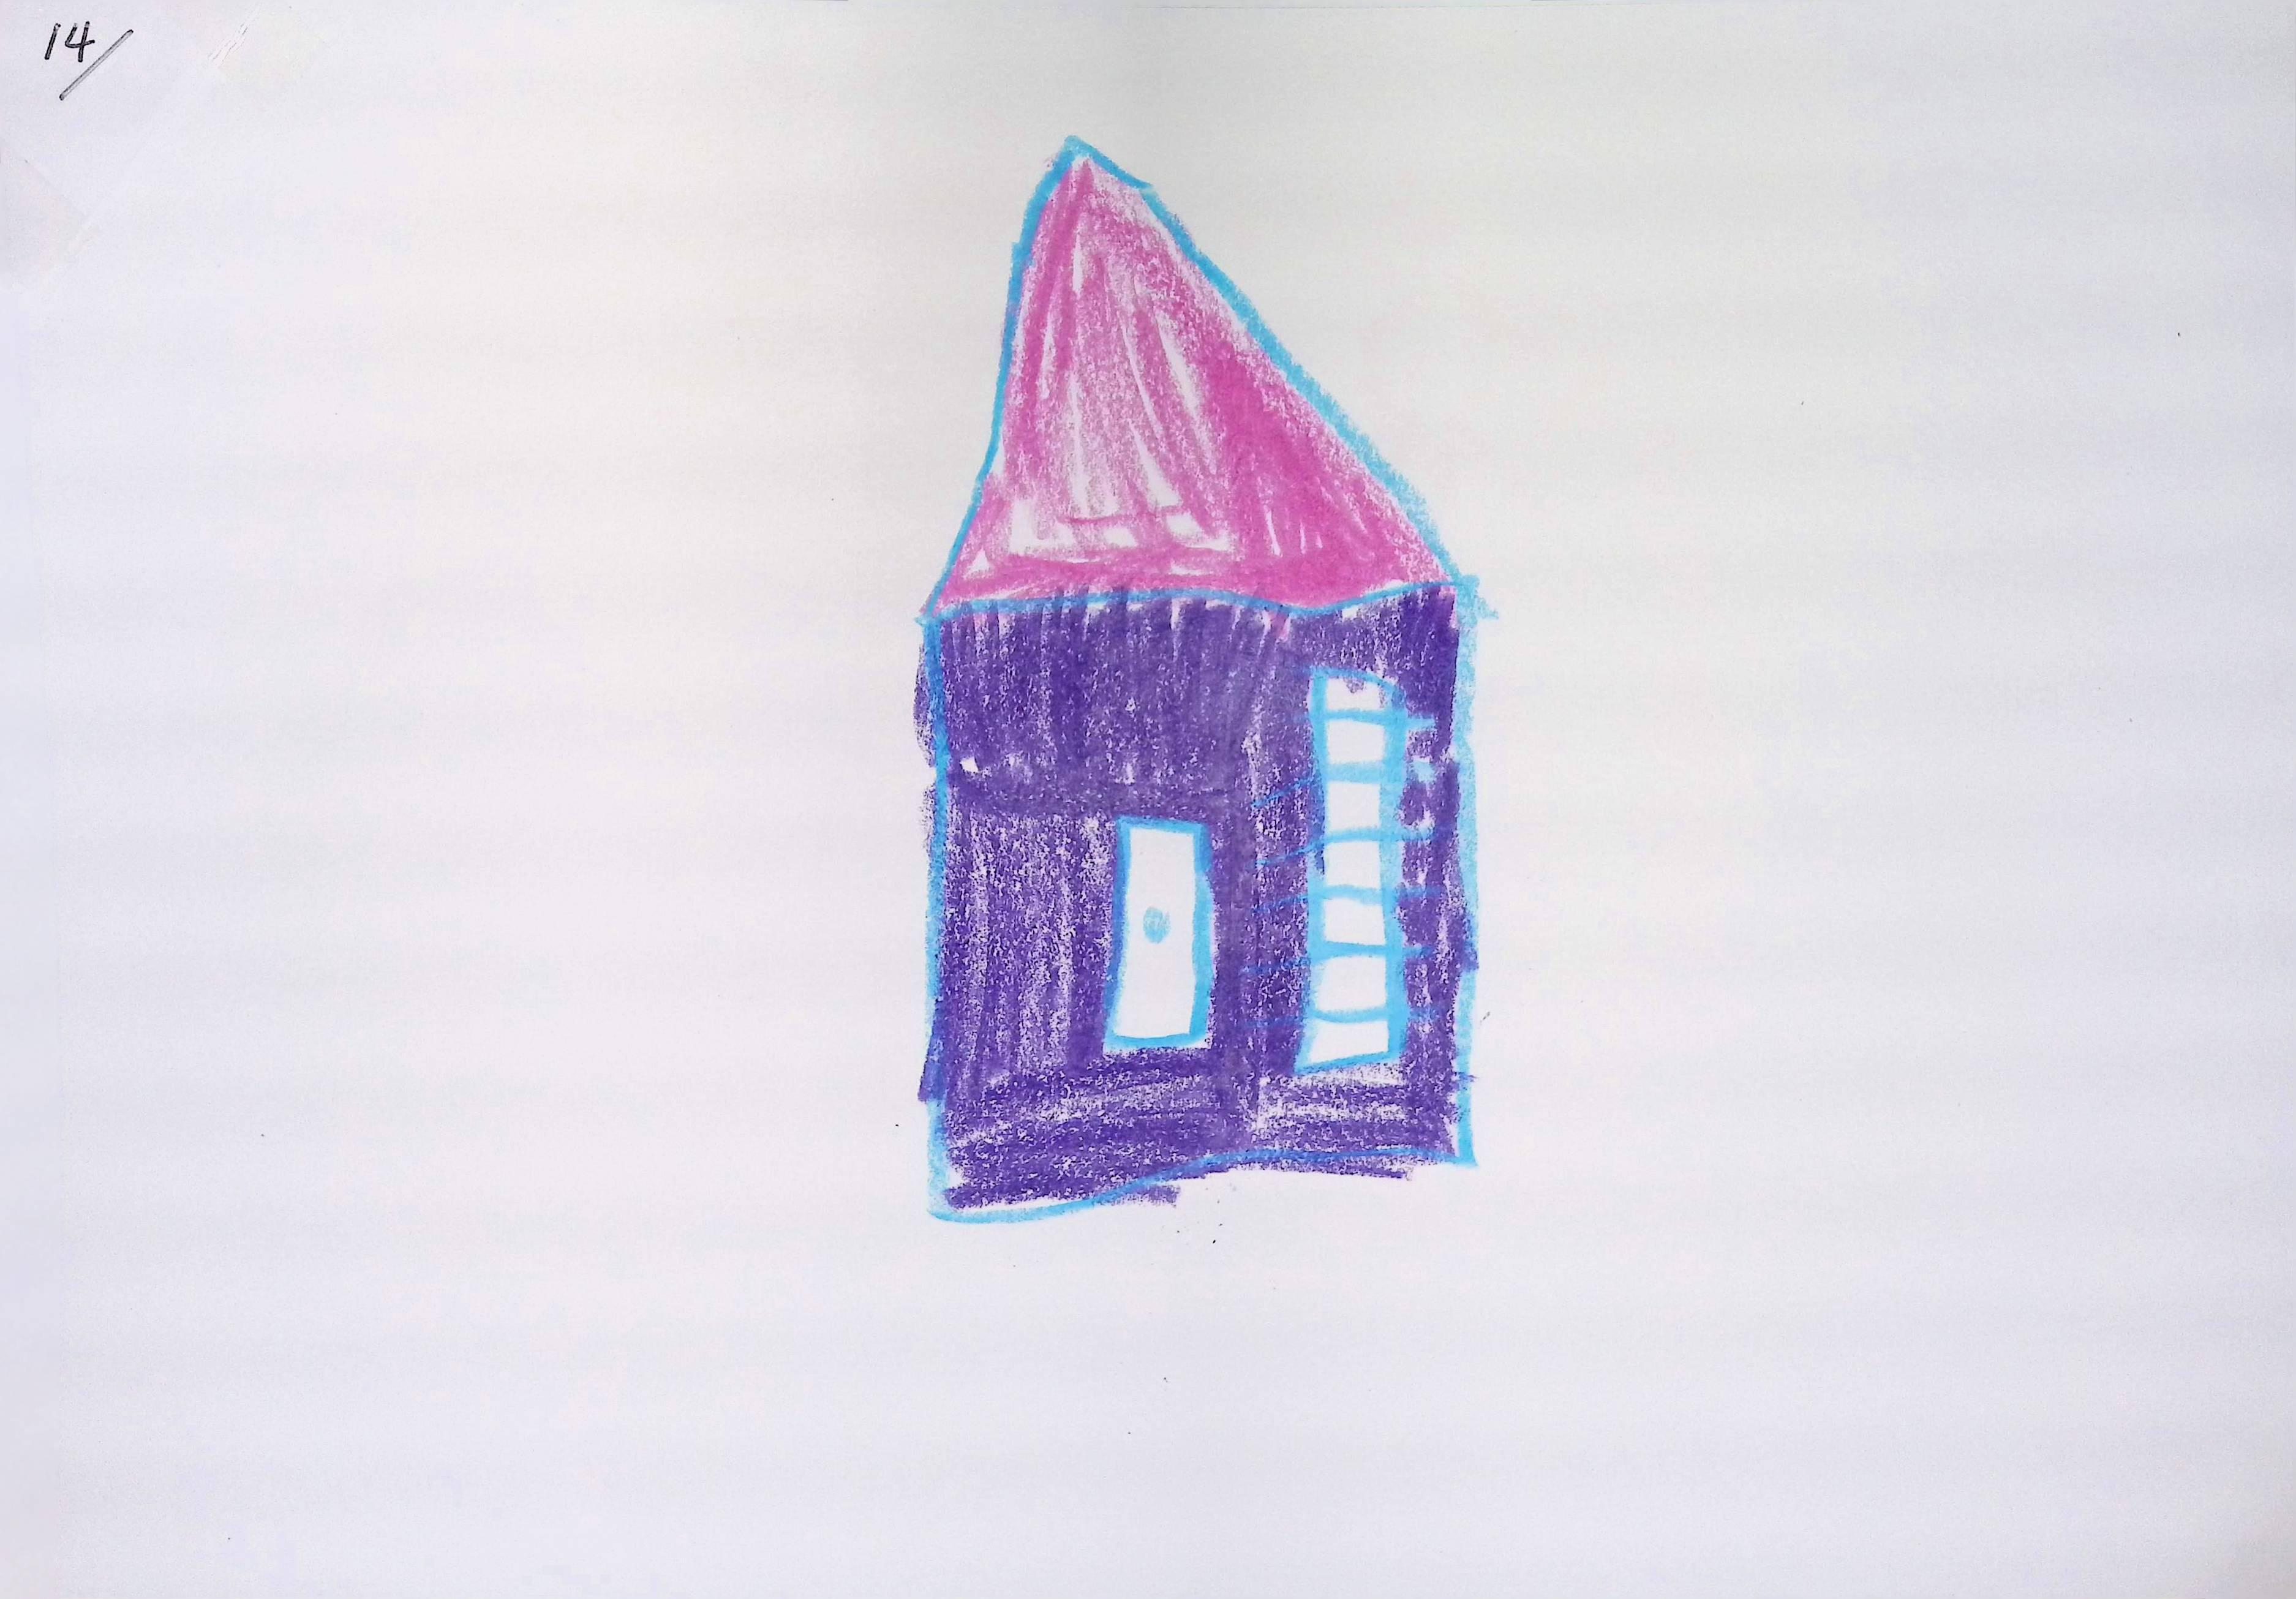door: (1104, 816, 1214, 1051)
house: (918, 139, 1474, 1217)
roof: (932, 145, 1452, 612)
wall: (923, 567, 1473, 1215)
window: (1296, 666, 1413, 1072)
